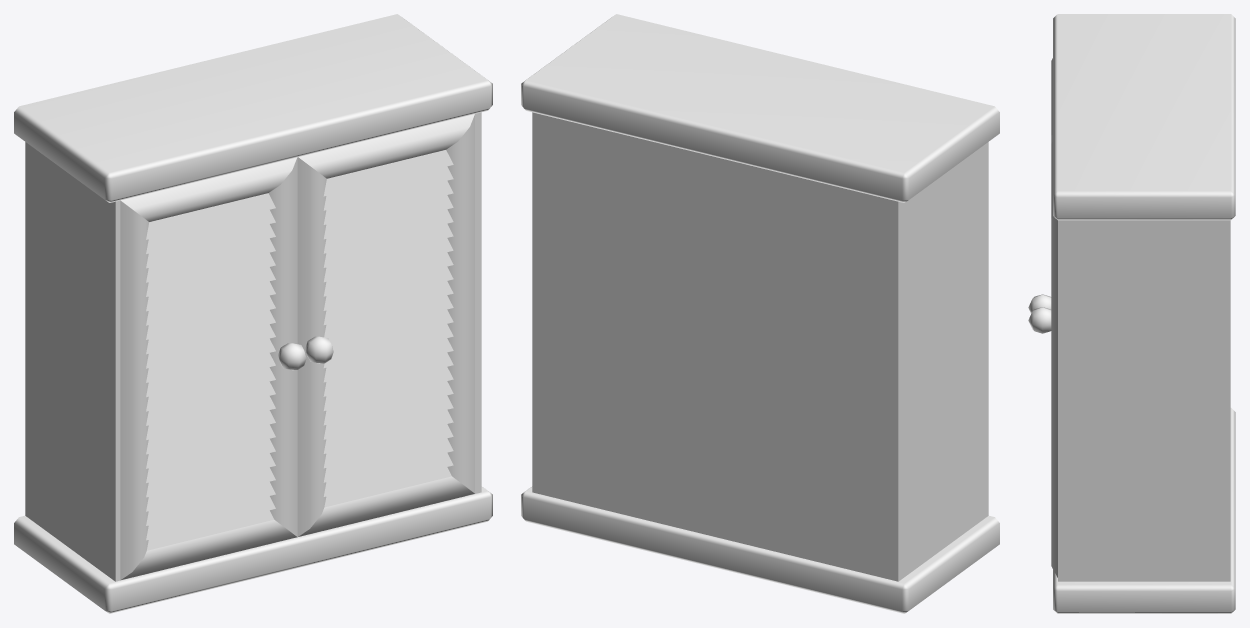
Rendered from bathroom_007.fbx.
3 views of the same model, side by side, from view 1: azimuth 30°, elevation 25°; view 2: azimuth 150°, elevation 25°; view 3: azimuth 270°, elevation 25° (orthographic). The views are drawn at different scales.
Parts seen in each view (by area): view 1: bathroom_007; view 2: bathroom_007; view 3: bathroom_007.
Part boxes in pixels (bbox=[...]): bathroom_007: bbox=[14, 14, 492, 613]; bathroom_007: bbox=[521, 14, 999, 613]; bathroom_007: bbox=[1028, 14, 1235, 613].
Size of the model in its own units: 107 by 51.74 by 116.
